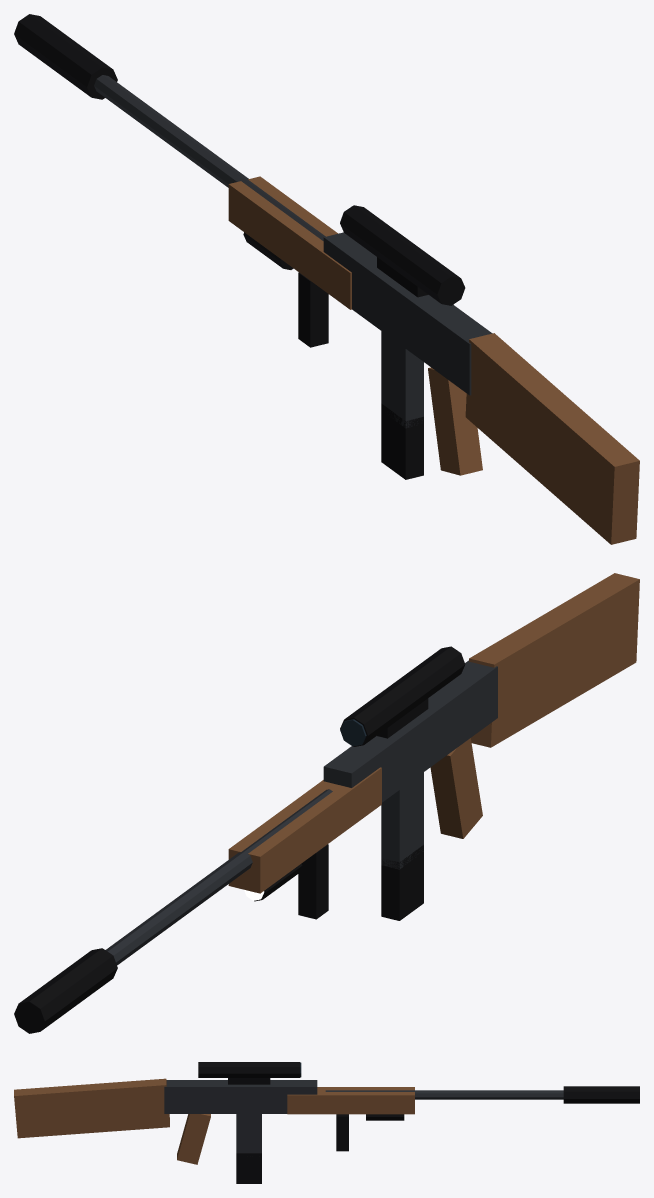
File: marksman.glb
The picture shows the model from 3 angles, top to bottom: view 1: azimuth 30°, elevation 25°; view 2: azimuth 150°, elevation 25°; view 3: azimuth 270°, elevation 25°; orthographic projection. The views are drawn at different scales.
Parts seen in each view (by area): view 1: marksman_Body, marksman_Att_Suppressor, marksman_Att_ExtMag, marksman_Att_Grip; view 2: marksman_Body, marksman_Att_Suppressor, marksman_Att_ExtMag, marksman_Att_Grip; view 3: marksman_Body, marksman_Att_Suppressor, marksman_Att_ExtMag, marksman_Att_Grip, marksman_Att_Flashlight.
Boxes of the visible parts, x1,y1,x2,y2 form: marksman_Body: [94, 75, 639, 544]; marksman_Att_Suppressor: [14, 14, 117, 99]; marksman_Att_ExtMag: [381, 403, 423, 479]; marksman_Att_Grip: [298, 272, 328, 347]; marksman_Body: [105, 573, 639, 965]; marksman_Att_Suppressor: [14, 948, 117, 1033]; marksman_Att_ExtMag: [381, 845, 423, 920]; marksman_Att_Grip: [298, 844, 328, 919]; marksman_Body: [14, 1062, 563, 1164]; marksman_Att_Suppressor: [563, 1086, 639, 1103]; marksman_Att_ExtMag: [236, 1153, 261, 1183]; marksman_Att_Grip: [336, 1114, 348, 1151]; marksman_Att_Flashlight: [366, 1114, 405, 1120].
Bounding box in the file's own units: 0.045 × 0.31 × 1.47.
